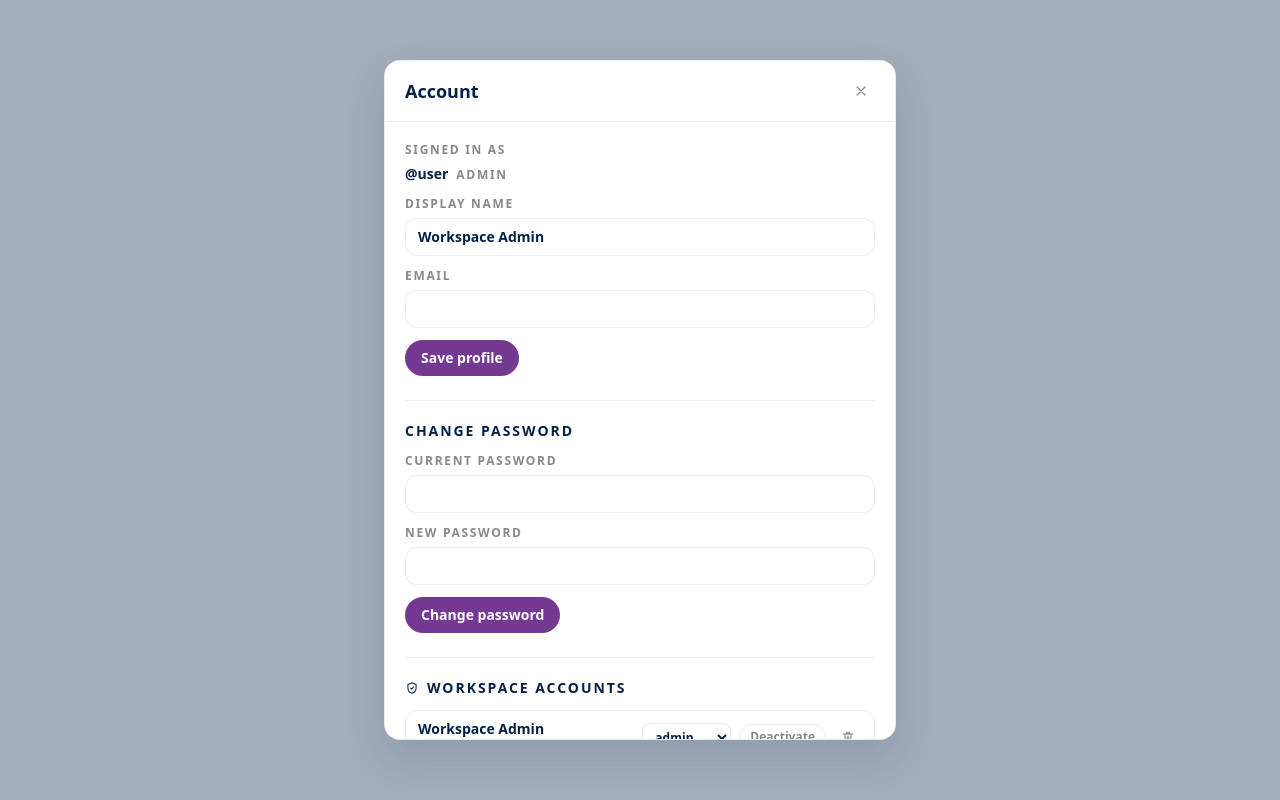
Test: AccountDialog › reports a failed profile save
Step 1. Click the button "Save profile" → (462, 358), box left=405, top=340, right=519, bottom=376
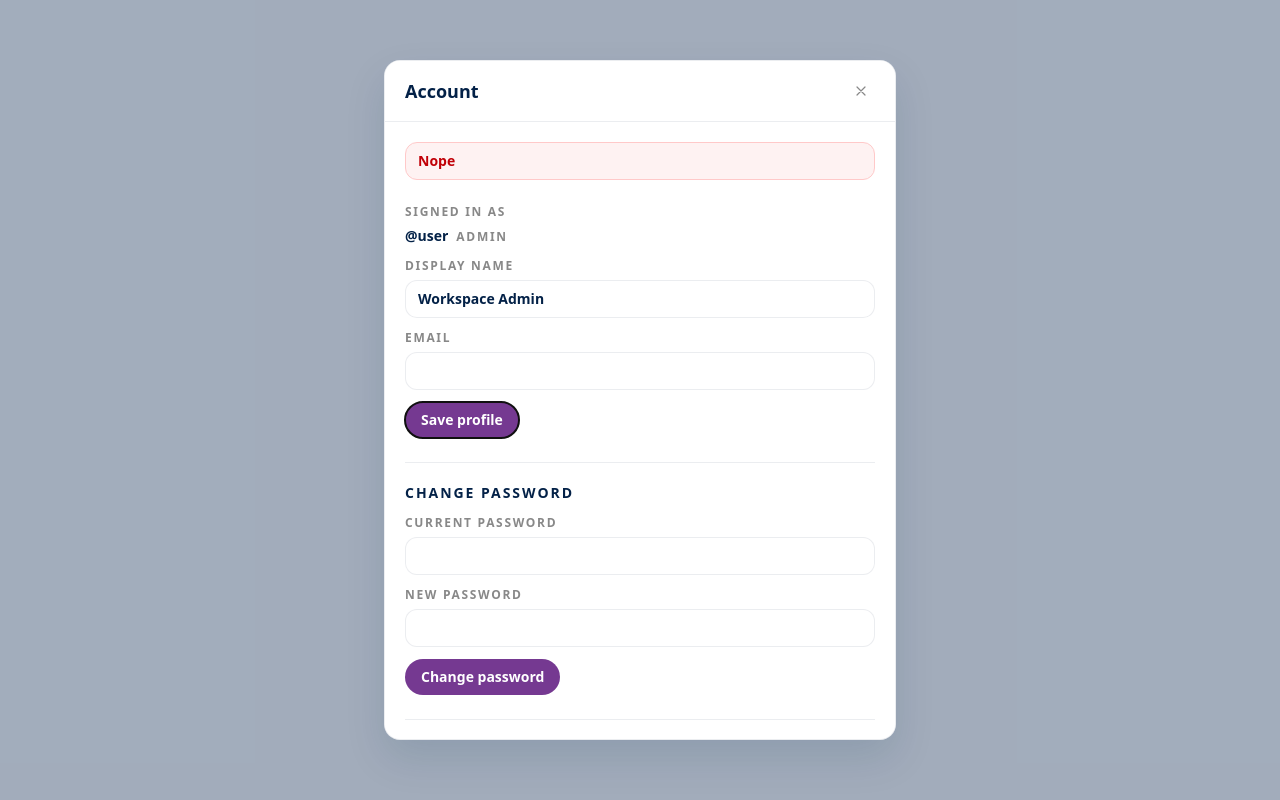
expect the message reads "Nope": met, box left=418, top=151, right=455, bottom=170
